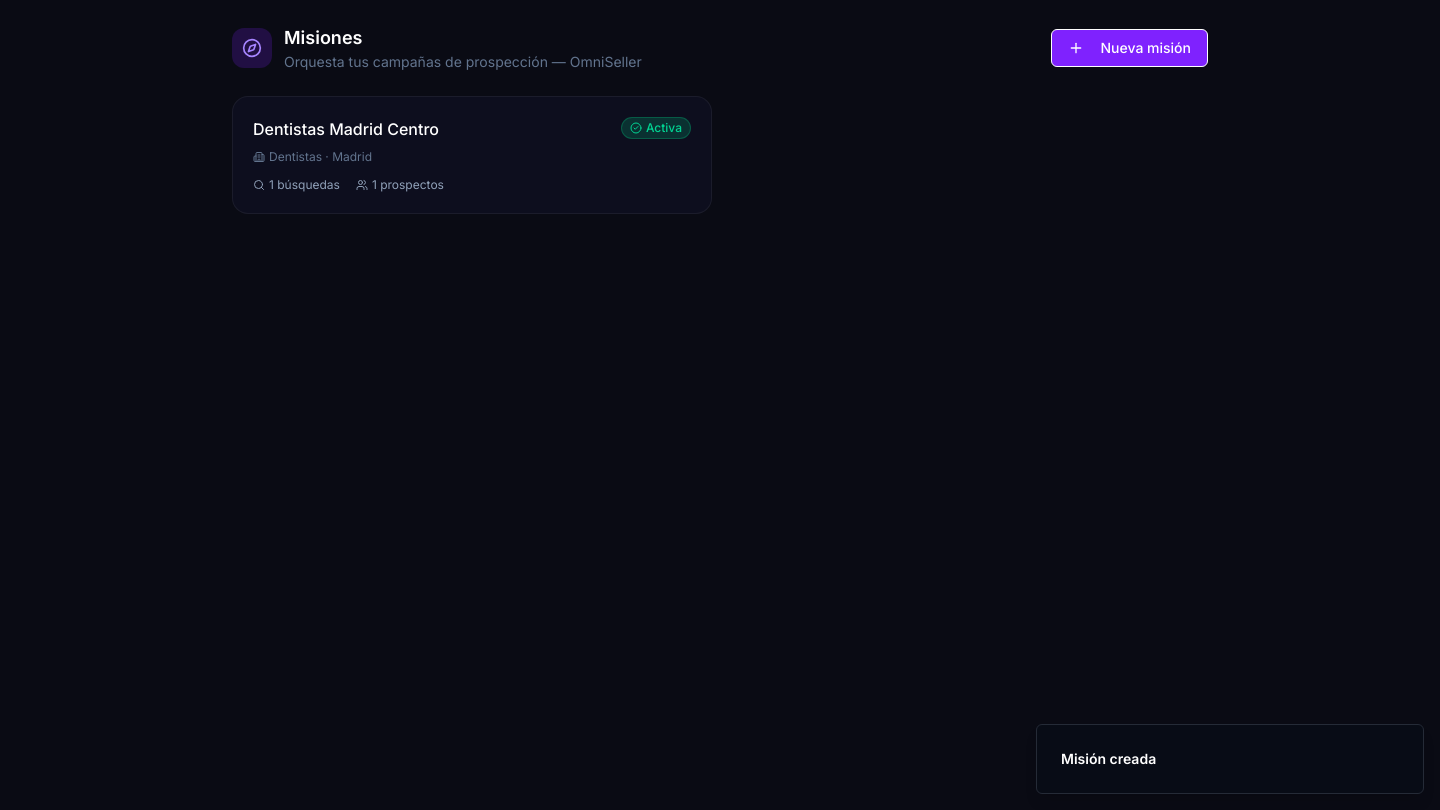
Test case: Research › 7. lanzar Research: loading → éxito, invalida prospectos
Click the text "Dentistas Madrid Centro" at (346, 129), box [253,117,439,141]
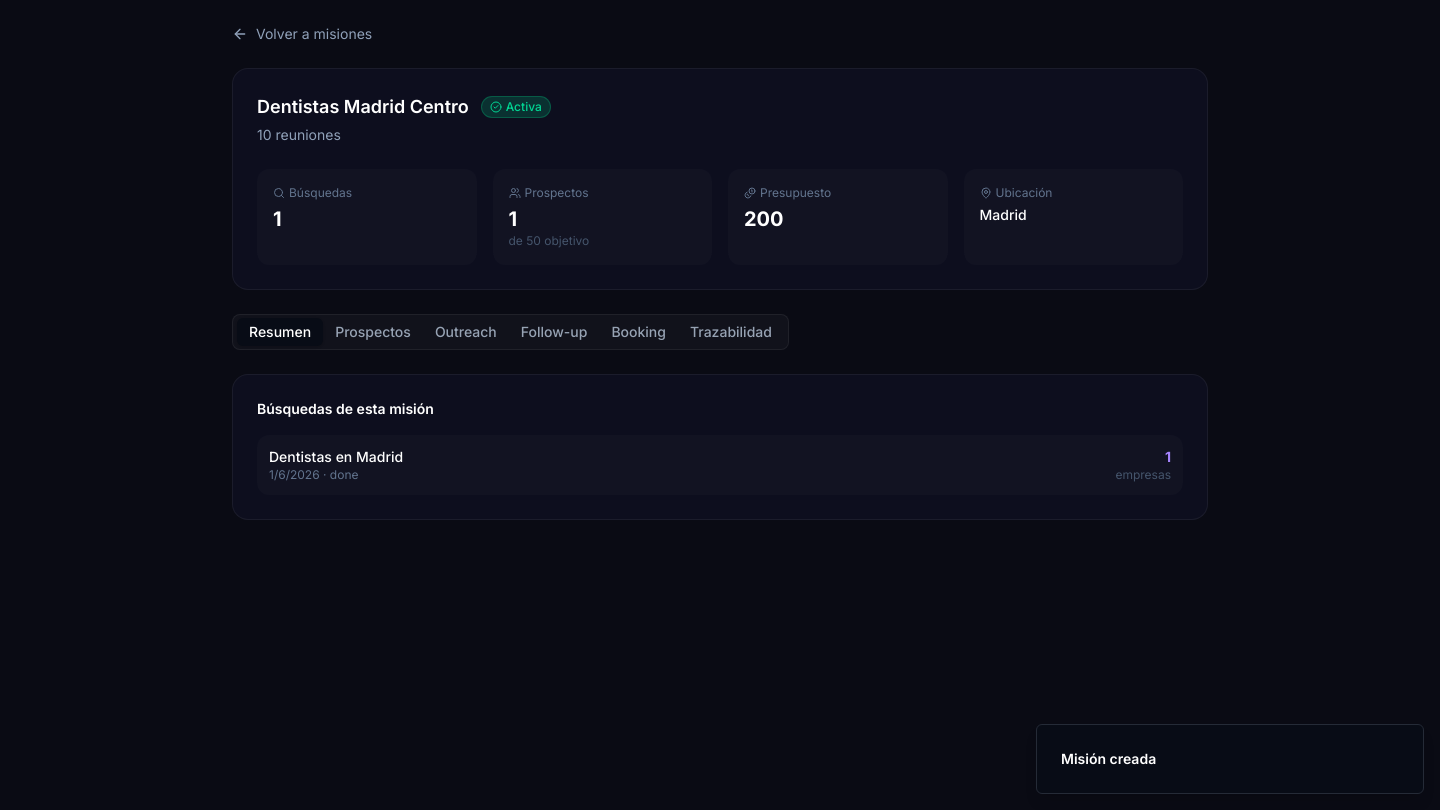
Expected: the heading "Búsquedas de esta misión" is shown, [257,400,434,417]
Press the mouse on the tab with test id "tab-prospectos" at (373, 332), box [323,318,423,346]
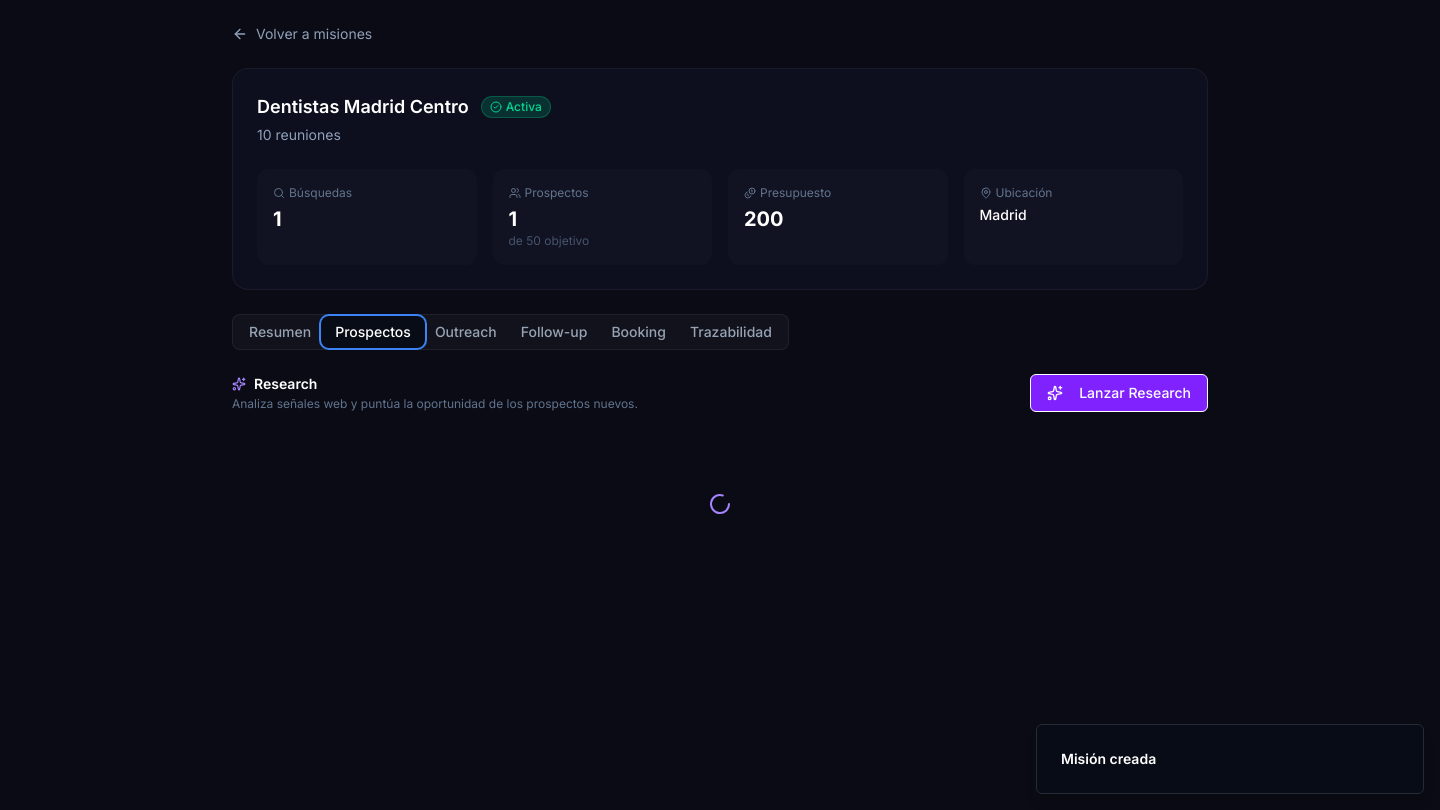
Click the button with test id "run-research-btn" at (1119, 393), box [1030,374,1208,412]
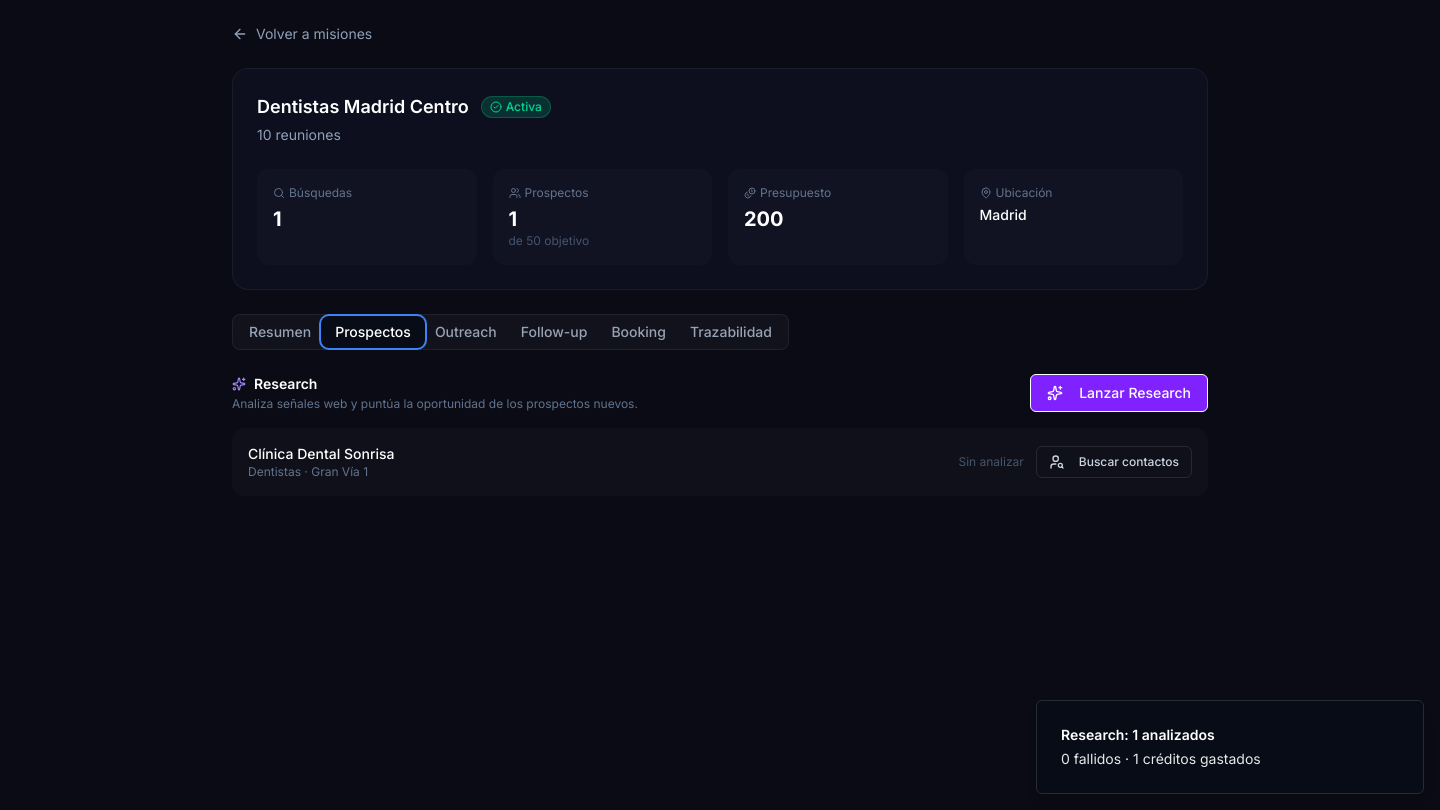
Expected: the text "Research: 1 analizados" is shown, [1061,726,1215,743]
